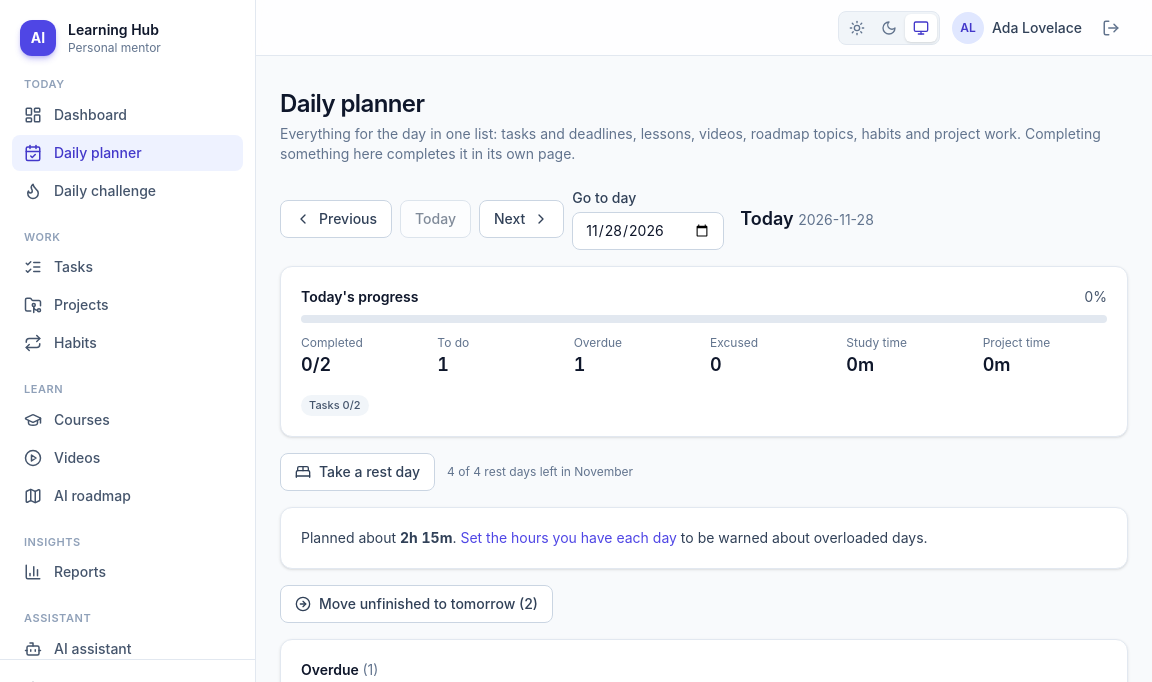
Test: rest days on the planner › offers no rest day for days further back than 3 days
The image size is (1152, 682).
Expected: the heading "Daily planner" is shown, top-left (280, 89), bottom-right (424, 118)
Expected: the button "Take a rest day" is shown, top-left (280, 452), bottom-right (435, 490)
Step 1. Click the button with aria-label "Previous day" → (336, 219), box top-left (280, 200), bottom-right (392, 238)
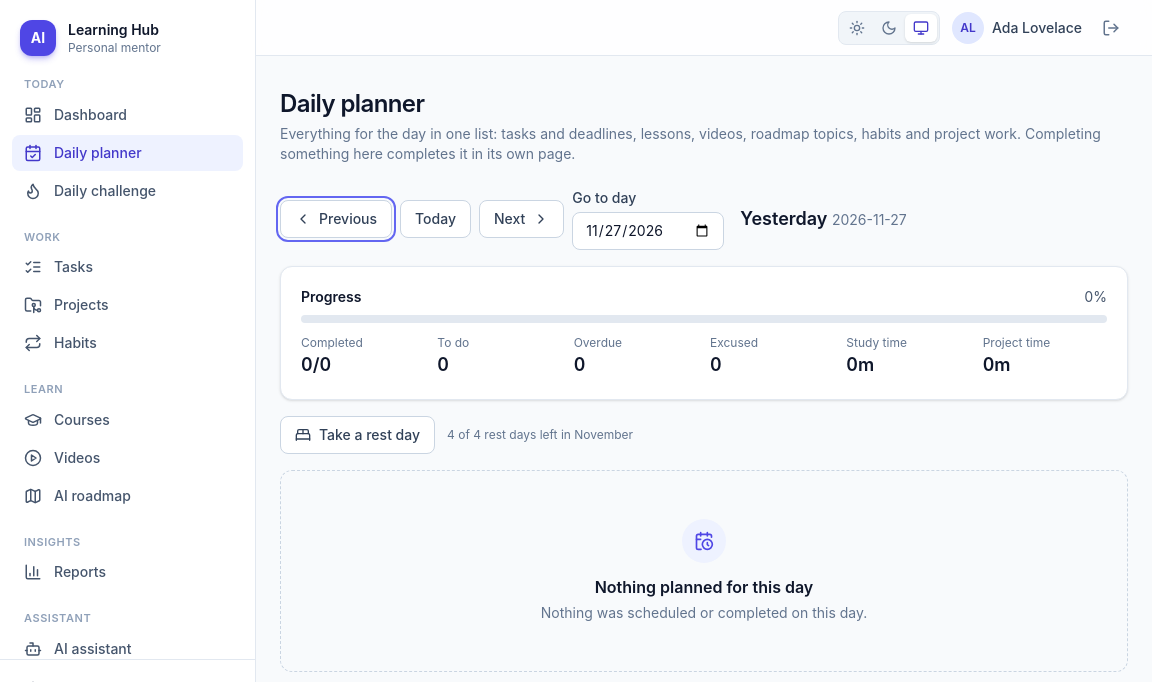
Step 2. Click the button with aria-label "Previous day" → (336, 219), box top-left (280, 200), bottom-right (392, 238)
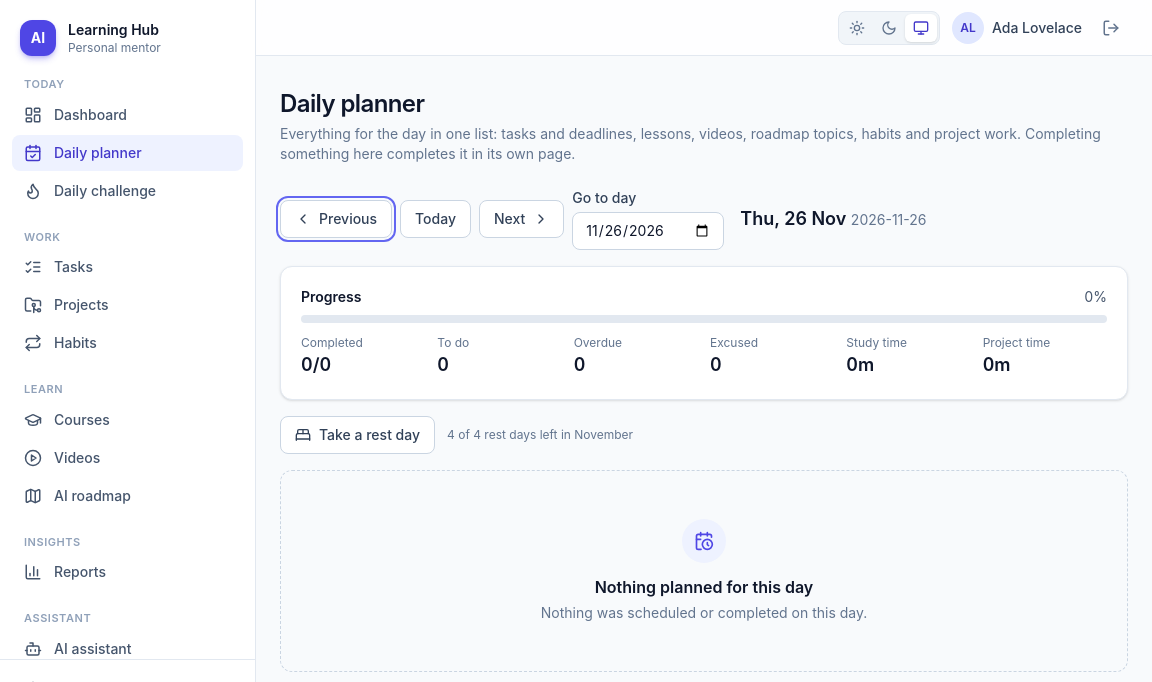
Step 3. Click the button with aria-label "Previous day" → (336, 219), box top-left (280, 200), bottom-right (392, 238)
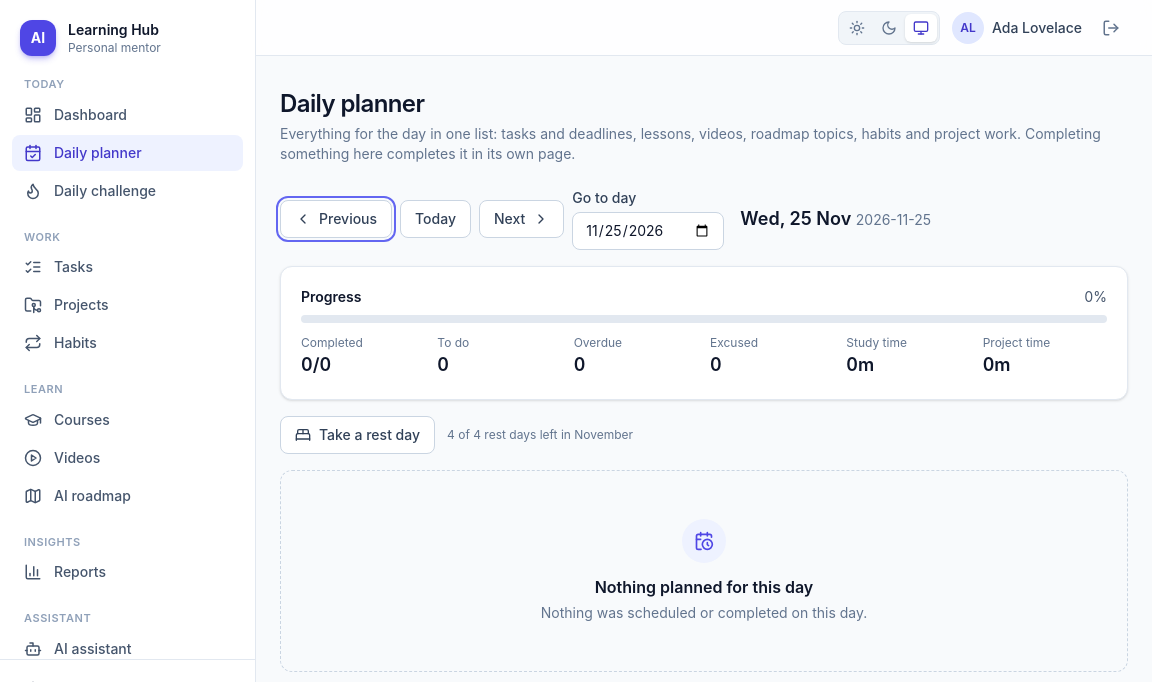
Expected: the button "Take a rest day" is shown, top-left (280, 416), bottom-right (435, 454)
Step 4. Click the button with aria-label "Previous day" → (336, 219), box top-left (280, 200), bottom-right (392, 238)
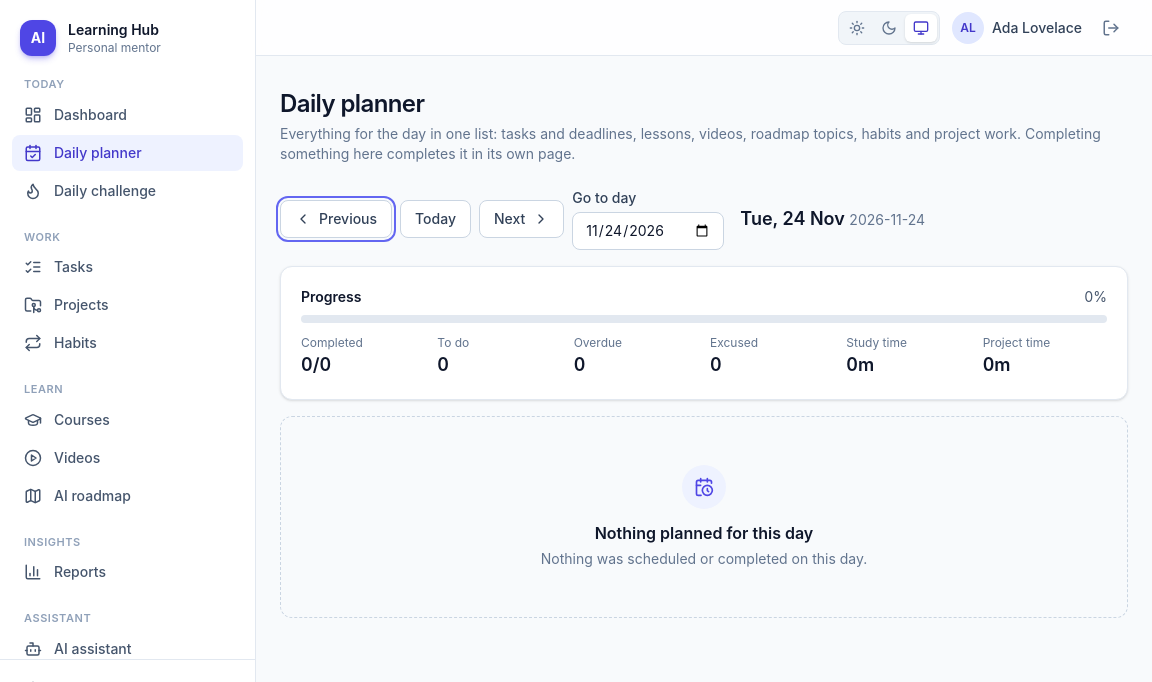
Result: the button "Take a rest day" is gone
